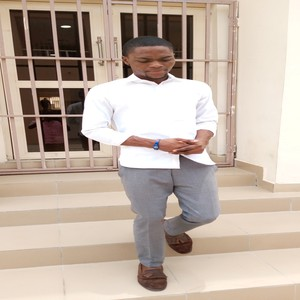Fulokoja_male_student: (95, 36, 217, 275)
